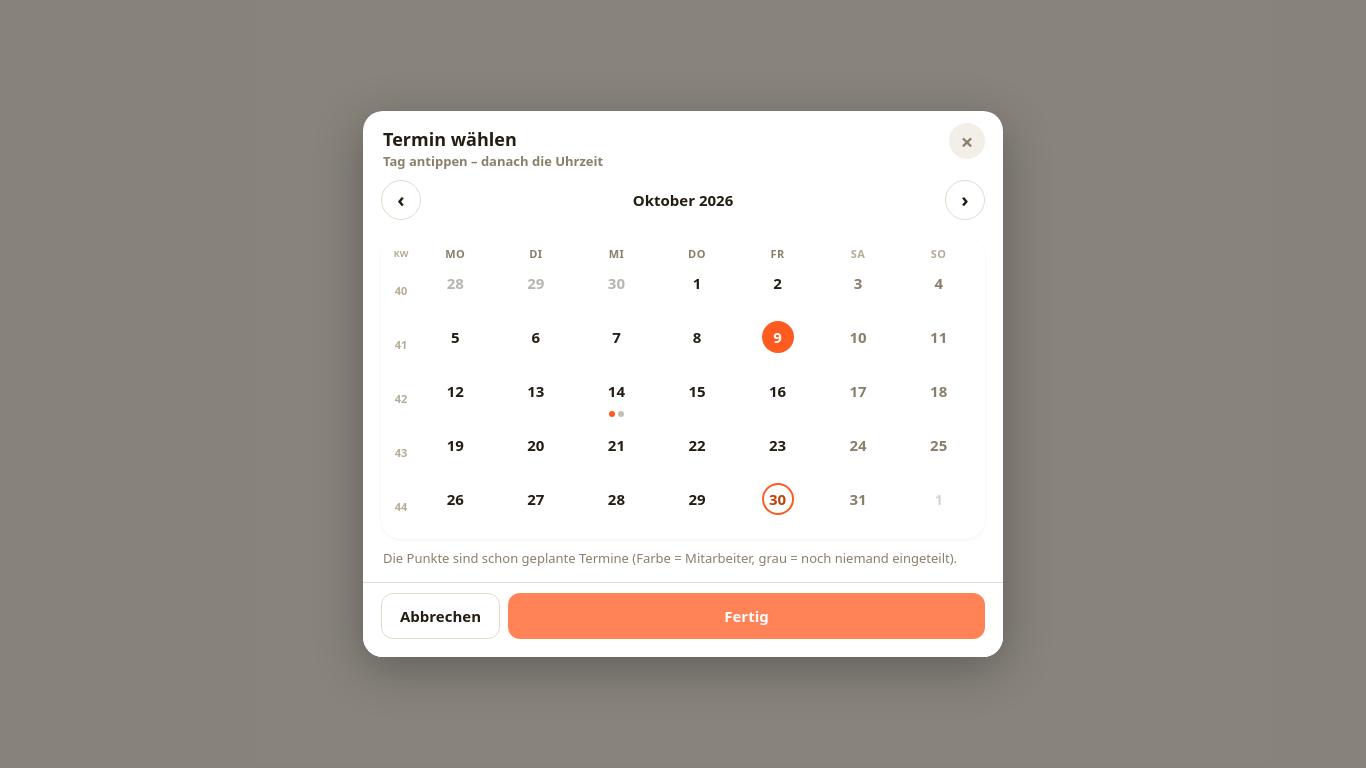
Test: Termin aus dem Kalender › zeigt den Monat mit Punkten für geplante Termine; blättern mit ‹ ›
The image size is (1366, 768).
Expected: the text "Oktober 2026" is shown, [633, 190, 733, 210]
Expected: the button named "15. Oktober, 0 Termine" is shown, [657, 371, 737, 425]
Step 1. Click the button named "Monat vor" → (965, 200), box [945, 180, 985, 220]
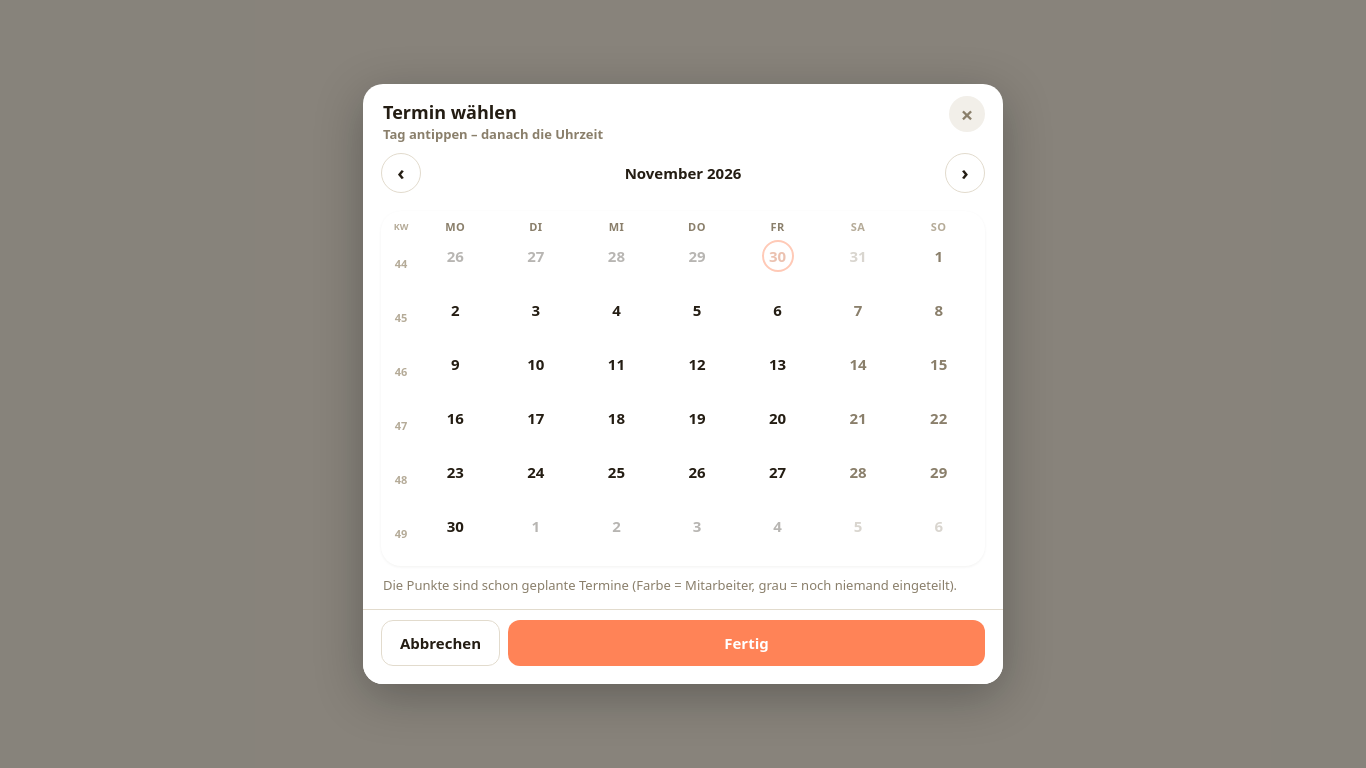
Expected: the button "Fertig" is disabled, [508, 620, 985, 666]
Expected: the text "November 2026" is shown, [625, 163, 741, 183]
